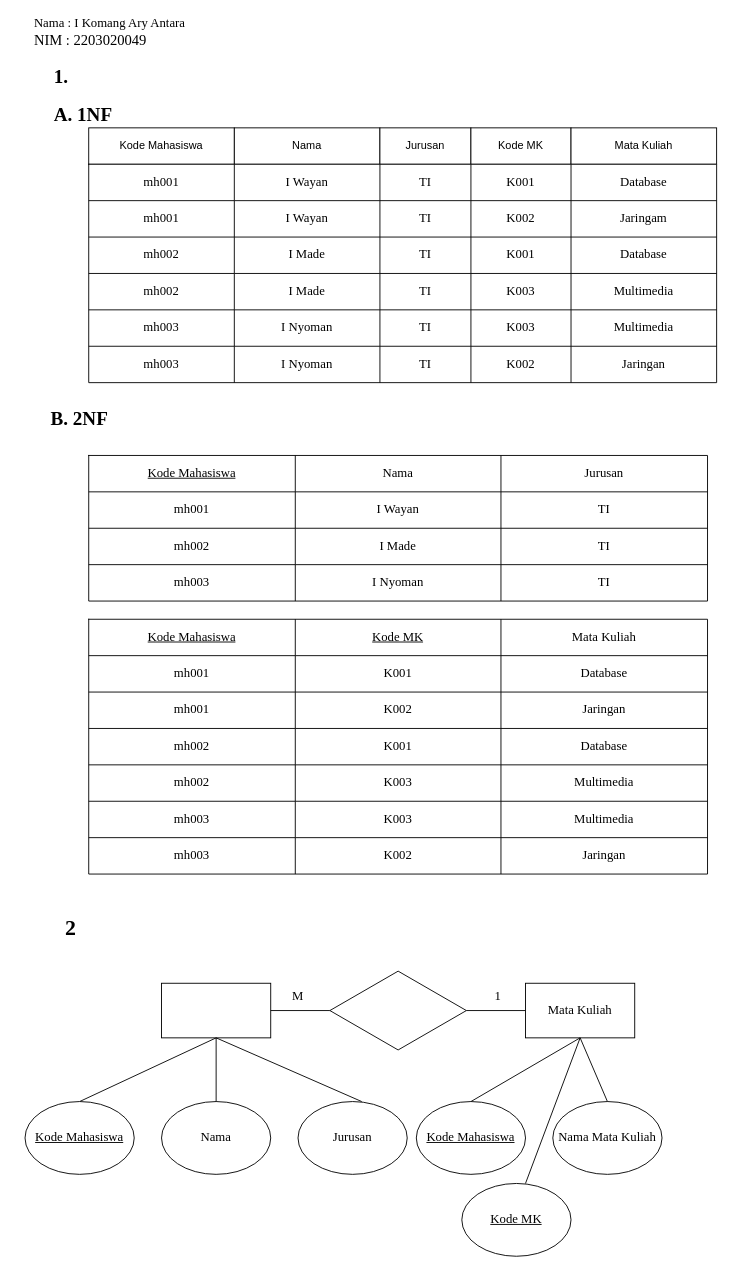
The diagram is 733 pixels wide and 1272 high, and some of its shapes have lost their labels. The shapes that lost their labels are listed below. From the top down, each one's centre as x and y in pixels, then its label:
the point at 216,1010: Mahasiswa
the point at 397,1010: Mengambil
